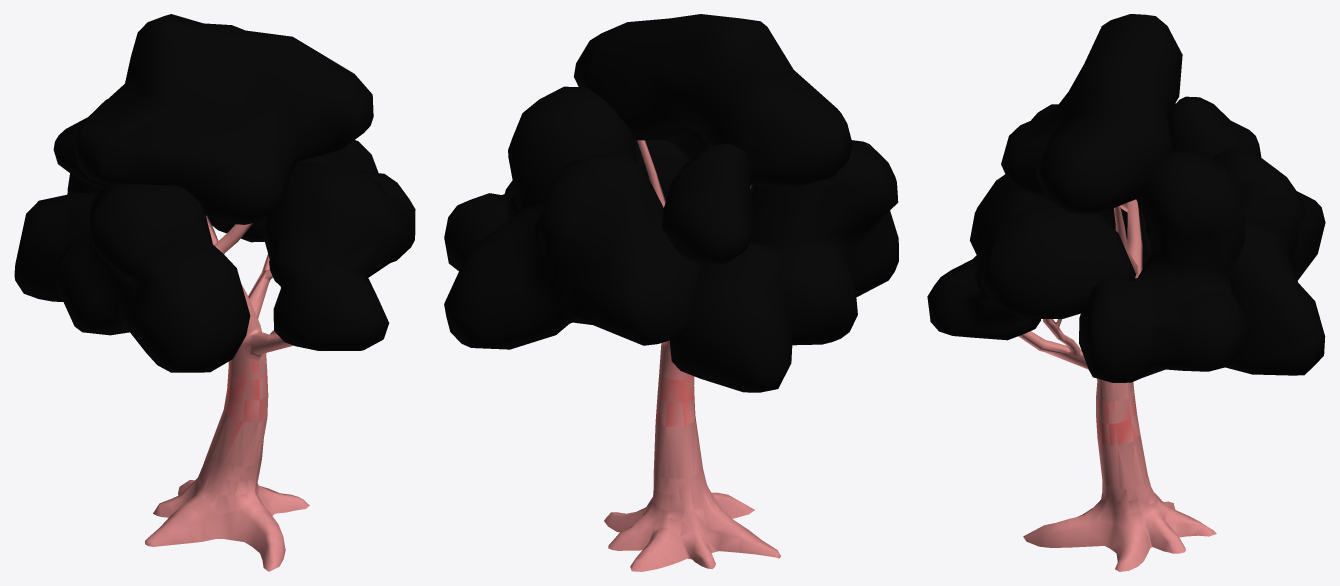
The model's file is SM_ENV_LKNVLD_Tree_C.gltf.
3 views of the same model, side by side, from view 1: azimuth 30°, elevation 25°; view 2: azimuth 150°, elevation 25°; view 3: azimuth 270°, elevation 25° (orthographic). The views are drawn at different scales.
Parts seen in each view (by area): view 1: SM_ENV_LKNVLD_Tree_C; view 2: SM_ENV_LKNVLD_Tree_C; view 3: SM_ENV_LKNVLD_Tree_C.
Boxes of the visible parts, left/top/right/bottom form: SM_ENV_LKNVLD_Tree_C: left=14, top=14, right=415, bottom=571; SM_ENV_LKNVLD_Tree_C: left=444, top=14, right=898, bottom=571; SM_ENV_LKNVLD_Tree_C: left=927, top=14, right=1325, bottom=571.
Size of the model in its own units: 9.73 by 13.78 by 9.89.
